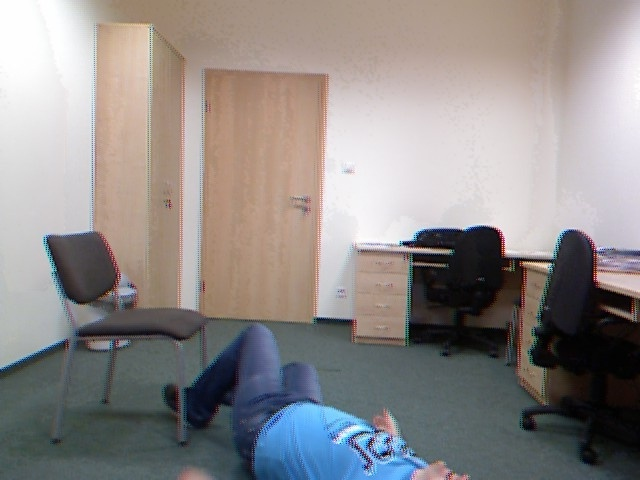fall: (160, 314, 472, 480)
